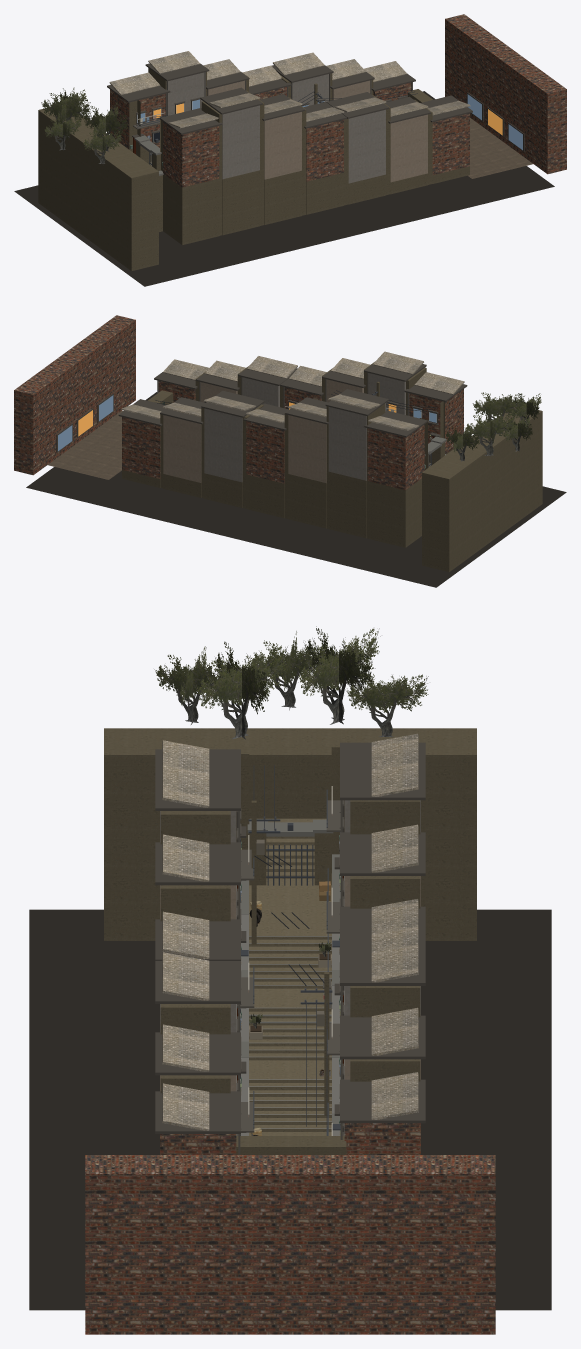
File: step-lane.glb
The picture shows the model from 3 angles, top to bottom: view 1: azimuth 30°, elevation 25°; view 2: azimuth 150°, elevation 25°; view 3: azimuth 270°, elevation 25°; orthographic projection. The views are drawn at different scales.
Visible parts, largest first — view 1: bake:concrete_wall_007:retaining, bake:brick_wall_001:brick, bake:plain:base, bake:plain:roof, bake:painted_plaster_wall:render_alt, bake:roof_slates_02:pitch, bake:painted_plaster_wall:render, bake:picture:cutout:billboard-island_tree_02.png, bake:herringbone_pavement:paving, bake:plain:pane_cool, bake:plain:reveal, bake:plain:pane_lit; view 2: bake:concrete_wall_007:retaining, bake:brick_wall_001:brick, bake:plain:base, bake:plain:roof, bake:painted_plaster_wall:render_alt, bake:roof_slates_02:pitch, bake:painted_plaster_wall:render, bake:picture:cutout:billboard-island_tree_02.png, bake:herringbone_pavement:paving, bake:plain:pane_cool, bake:plain:reveal; view 3: bake:brick_wall_001:brick, bake:plain:base, bake:concrete_wall_007:retaining, bake:plain:roof, bake:roof_slates_02:pitch, bake:concrete_wall_007:stone, bake:picture:cutout:billboard-island_tree_02.png, bake:plain:cap, bake:plain:sill, bake:plain:nosing, bake:plain:steel, bake:plain:wire (+1 smaller).
Part boxes in pixels (bbox=[...]): bake:concrete_wall_007:retaining: bbox=[38, 68, 469, 271]; bake:brick_wall_001:brick: bbox=[110, 14, 566, 187]; bake:plain:base: bbox=[14, 91, 554, 286]; bake:plain:roof: bbox=[107, 63, 472, 137]; bake:painted_plaster_wall:render_alt: bbox=[166, 72, 385, 183]; bake:roof_slates_02:pitch: bbox=[109, 51, 470, 128]; bake:painted_plaster_wall:render: bbox=[207, 80, 427, 182]; bake:picture:cutout:billboard-island_tree_02.png: bbox=[41, 87, 128, 163]; bake:herringbone_pavement:paving: bbox=[468, 118, 532, 178]; bake:plain:pane_cool: bbox=[137, 94, 522, 150]; bake:plain:reveal: bbox=[136, 92, 524, 151]; bake:plain:pane_lit: bbox=[153, 103, 502, 135]; bake:concrete_wall_007:retaining: bbox=[122, 362, 542, 572]; bake:brick_wall_001:brick: bbox=[14, 315, 463, 490]; bake:plain:base: bbox=[26, 392, 566, 587]; bake:plain:roof: bbox=[118, 364, 467, 437]; bake:painted_plaster_wall:render_alt: bbox=[204, 373, 405, 482]; bake:roof_slates_02:pitch: bbox=[121, 351, 464, 430]; bake:painted_plaster_wall:render: bbox=[163, 379, 363, 482]; bake:picture:cutout:billboard-island_tree_02.png: bbox=[446, 392, 541, 461]; bake:herringbone_pavement:paving: bbox=[48, 410, 123, 479]; bake:plain:pane_cool: bbox=[58, 395, 436, 451]; bake:plain:reveal: bbox=[56, 393, 437, 452]; bake:brick_wall_001:brick: bbox=[85, 1123, 495, 1334]; bake:plain:base: bbox=[29, 909, 551, 1310]; bake:concrete_wall_007:retaining: bbox=[104, 728, 476, 1154]; bake:plain:roof: bbox=[155, 742, 425, 1133]; bake:roof_slates_02:pitch: bbox=[162, 733, 418, 1130]; bake:concrete_wall_007:stone: bbox=[249, 818, 331, 1135]; bake:picture:cutout:billboard-island_tree_02.png: bbox=[154, 626, 428, 1028]; bake:plain:cap: bbox=[236, 819, 344, 1135]; bake:plain:sill: bbox=[237, 800, 343, 1135]; bake:plain:nosing: bbox=[249, 936, 331, 1128]; bake:plain:steel: bbox=[238, 789, 342, 1135]; bake:plain:wire: bbox=[253, 765, 327, 1126].
Bounding box in the file's own units: 58.43 × 16.16 × 28.
Materials: 55 (22 with a texture image).
